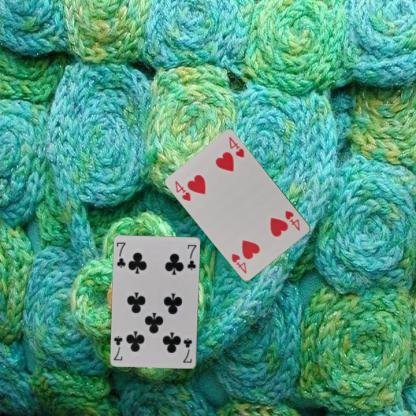4h: (172, 178, 192, 202), (282, 208, 301, 232)
7c: (180, 336, 193, 364), (115, 240, 127, 269)
